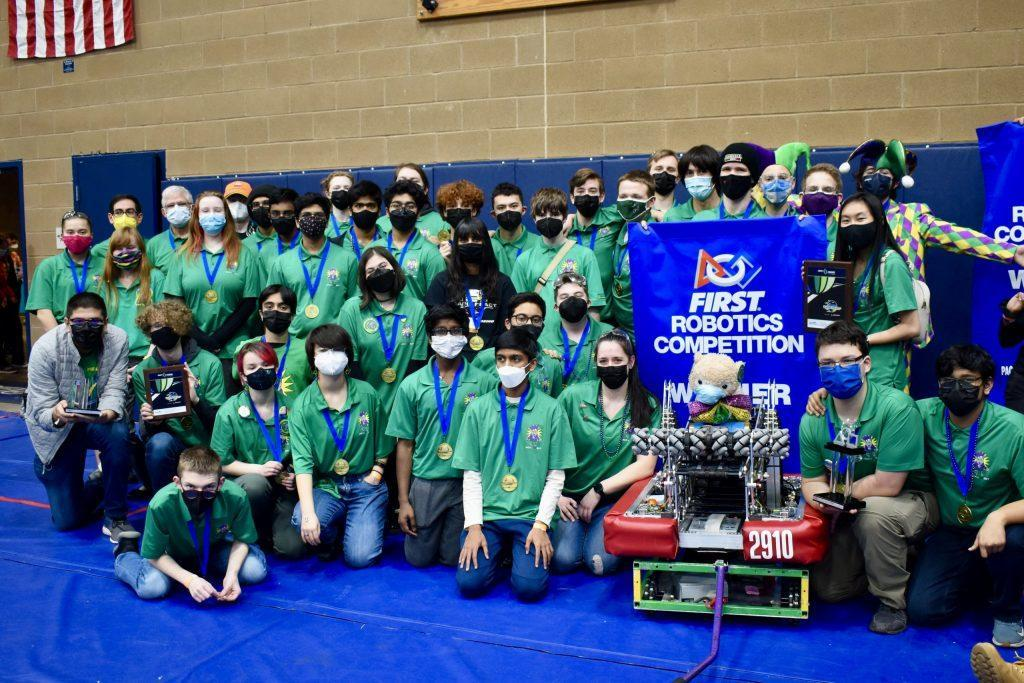robot: (598, 337, 838, 566)
